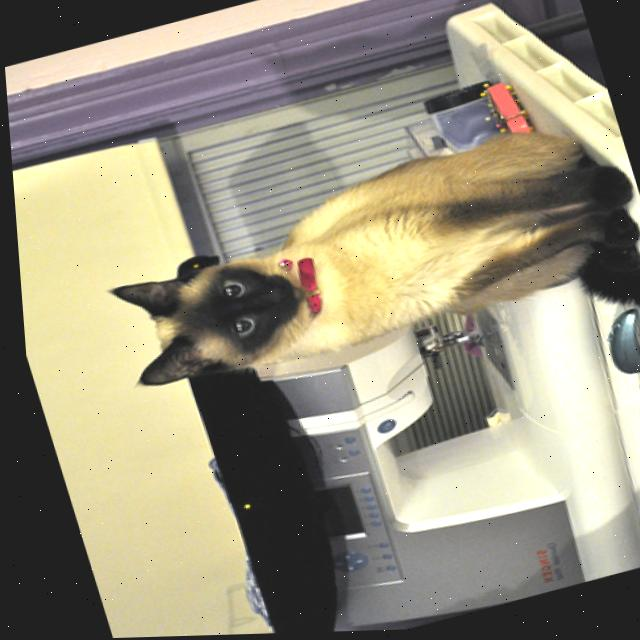Siamese: (80, 108, 640, 437)
